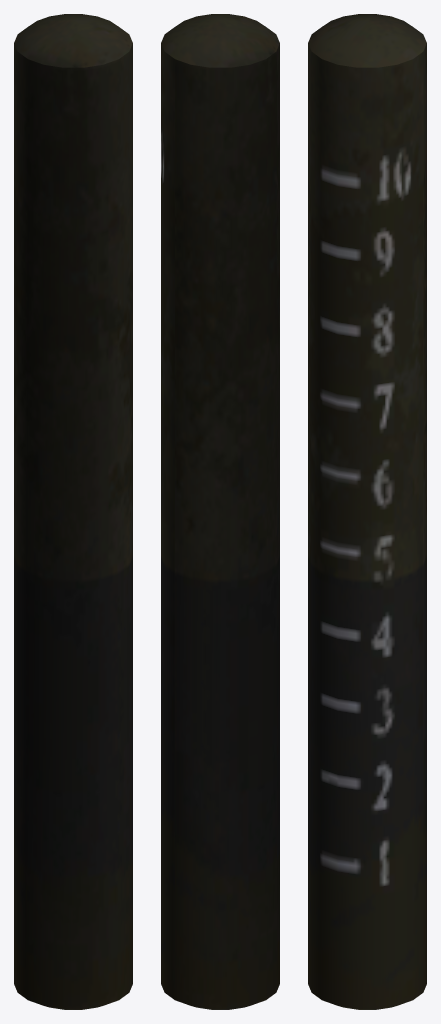
Rendered from glass_tube.dae.
3 renders of one model, left to right at view 1: azimuth 90°, elevation 25°; view 2: azimuth 150°, elevation 25°; view 3: azimuth 270°, elevation 25°, orthographic.
Parts seen in each view (by area): view 1: glass001; view 2: glass001; view 3: glass001.
Boxes of the visible parts, box(x1,y1,x2,y2) form: glass001: box(14, 14, 132, 1009); glass001: box(161, 14, 279, 1009); glass001: box(308, 14, 426, 1009).
Bounding box in the file's own units: 0.0378 × 0.3494 × 0.0384.
